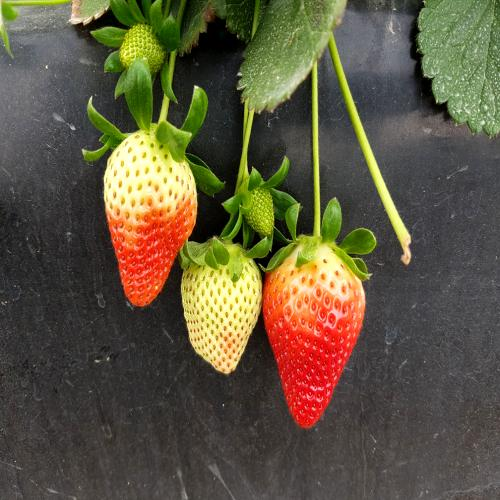partially-ripe: (94, 102, 188, 302)
ripe: (270, 223, 359, 430)
unripe: (180, 223, 266, 392)
